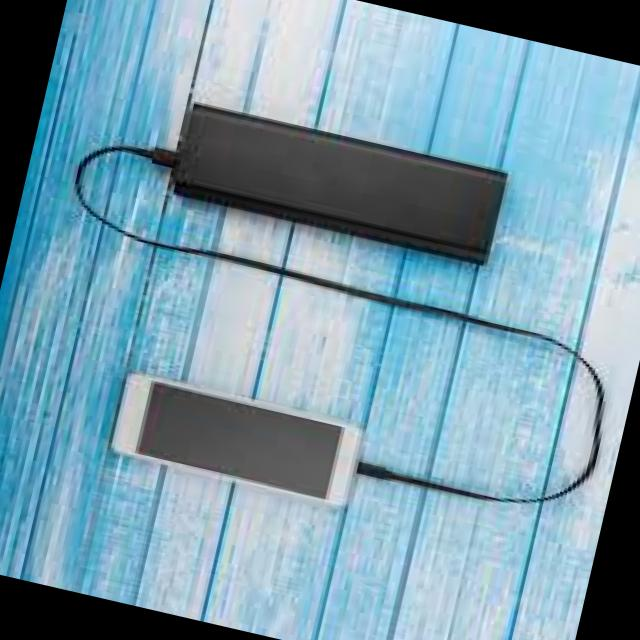portable-charger: (162, 96, 512, 270)
